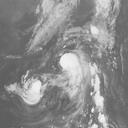cyclone: (57, 50, 88, 82), (18, 75, 44, 106)
